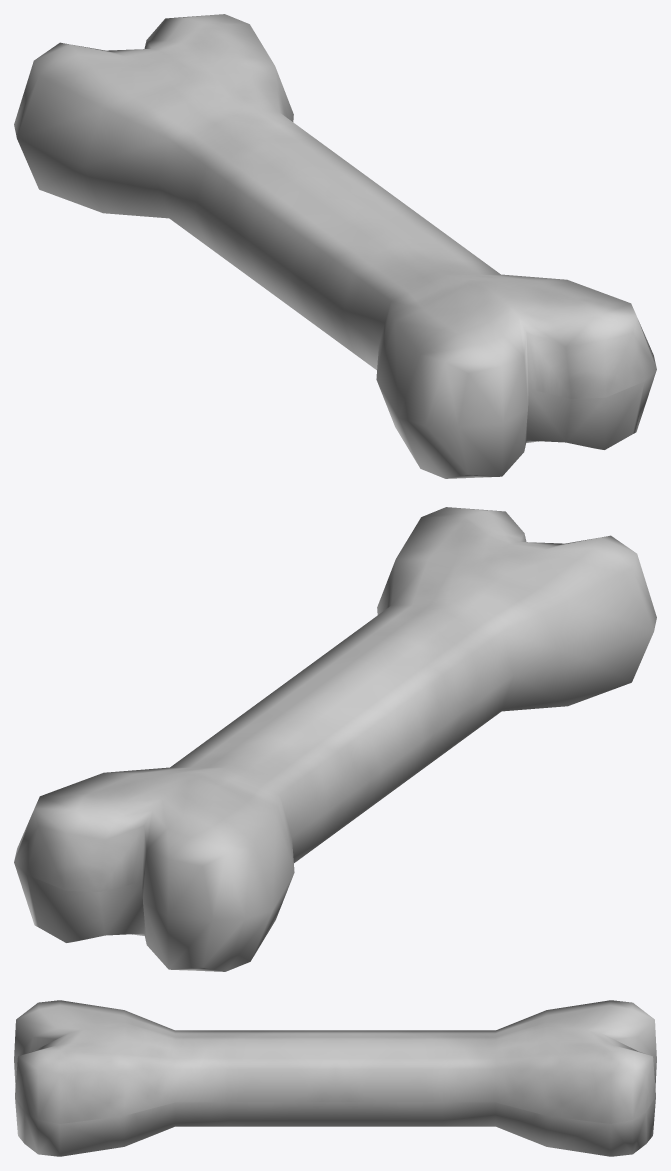
File: bone.fbx
3 renders of one model, top to bottom at view 1: azimuth 30°, elevation 25°; view 2: azimuth 150°, elevation 25°; view 3: azimuth 270°, elevation 25°, orthographic. The views are drawn at different scales.
Parts seen in each view (by area): view 1: pCube1; view 2: pCube1; view 3: pCube1.
Part boxes in pixels (bbox=[...]): pCube1: bbox=[14, 14, 656, 478]; pCube1: bbox=[14, 507, 656, 971]; pCube1: bbox=[14, 1000, 656, 1156].
Bounding box in the file's own units: 2.32 × 1.22 × 7.
